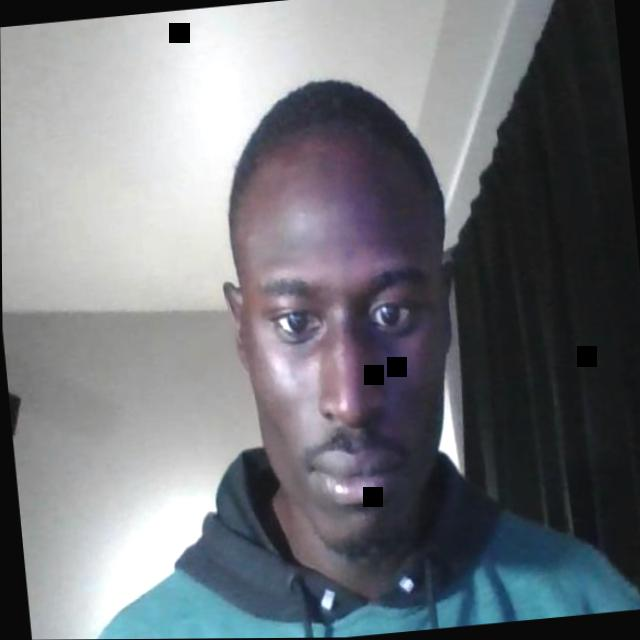NO-Mask: (232, 190, 467, 567)
